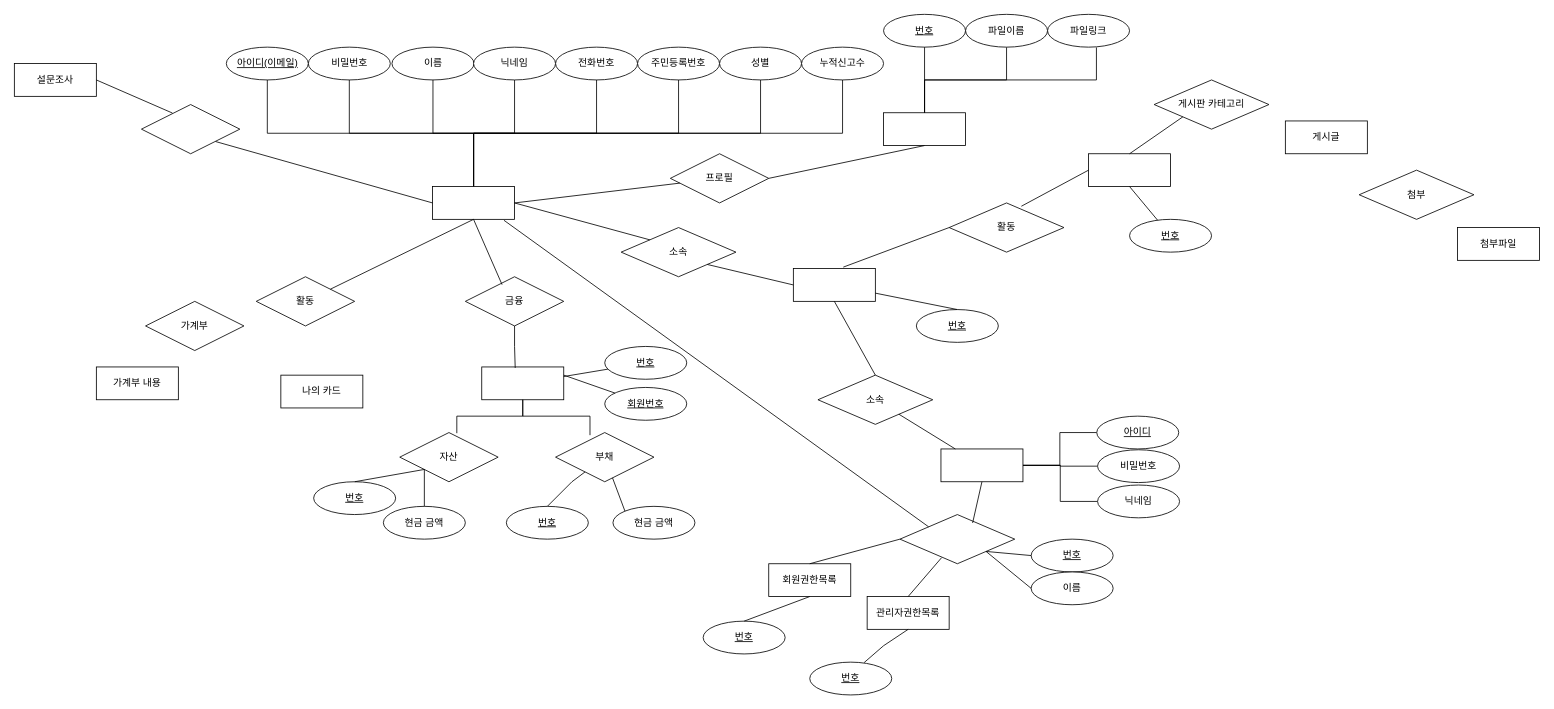
Some shapes in this 1554 by 709 pixel diagram are drawn without their labels. Here are the shapes that lost their labels. From the top down, the centre of each, then its label:
At point 190,129: "설문".
At point 924,129: "프로필이미지".
At point 1129,170: "게시판".
At point 473,202: "회원".
At point 834,284: "사용자".
At point 522,383: "회원금융정보".
At point 981,465: "관리자".
At point 957,539: "권한".
